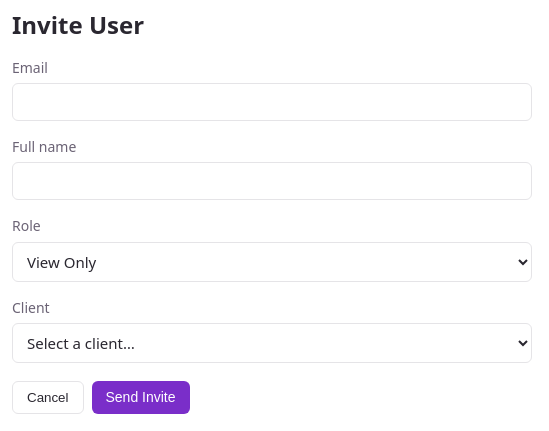
UserInvitePage › clears a previously-selected client when switching role to Admin, and back
Select "View Only" in the dropdown labelled "Role" at (272,262), box [12,242,532,282]
Select "Acme Corp" in the dropdown labelled "Client" at (272,343), box [12,323,532,363]
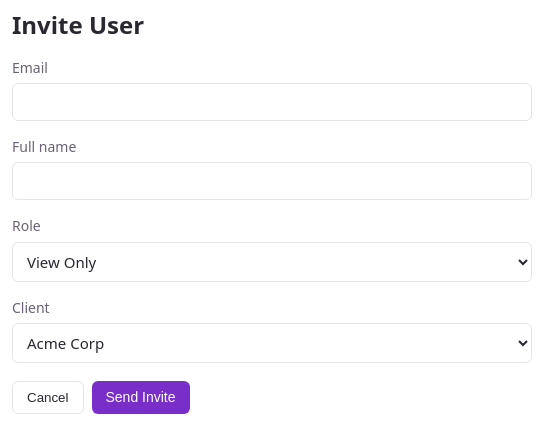
Select "Admin" in the dropdown labelled "Role" at (272,262), box [12,242,532,282]
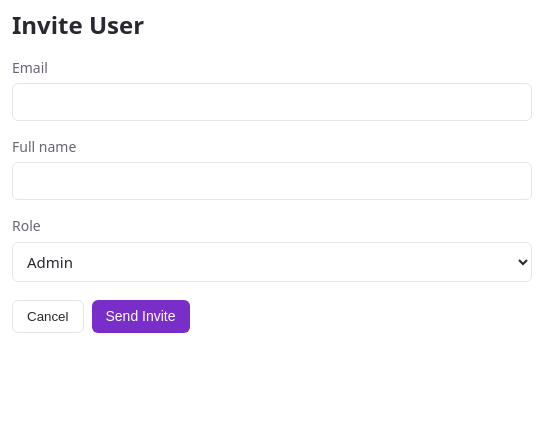
Expected: the label labelled "Client" is gone
Select "View Only" in the dropdown labelled "Role" at (272,262), box [12,242,532,282]
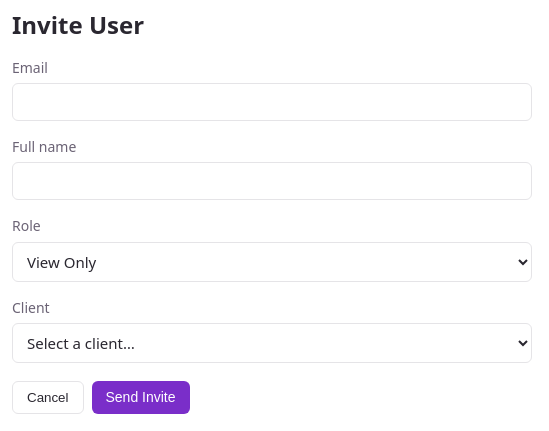
Expected: the dropdown labelled "Client" shows "Select a client…", [12,323,532,363]
